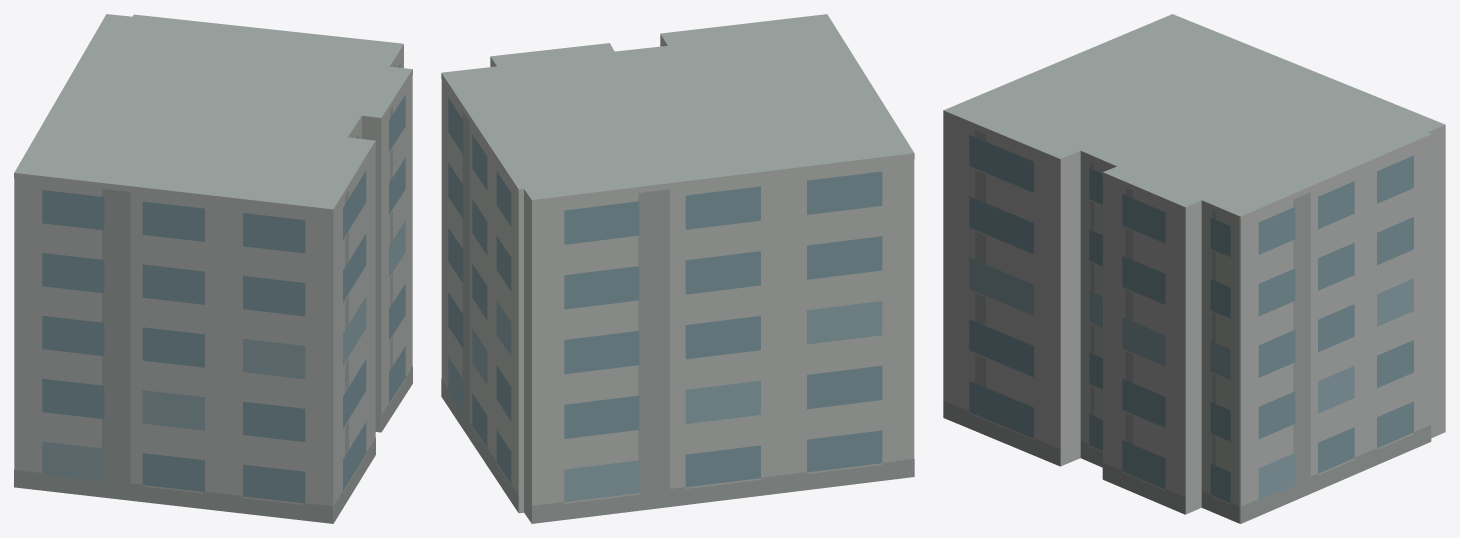
Rendered from survey-upis-32886846.glb.
3 renders of one model, left to right at view 1: azimuth 30°, elevation 25°; view 2: azimuth 150°, elevation 25°; view 3: azimuth 270°, elevation 25°, orthographic. The views are drawn at different scales.
Visible parts, largest first — view 1: survey-upis-32886846.tmp; view 2: survey-upis-32886846.tmp; view 3: survey-upis-32886846.tmp.
Boxes of the visible parts, x1=… form: survey-upis-32886846.tmp: x1=14, y1=14, x2=412, y2=523; survey-upis-32886846.tmp: x1=441, y1=14, x2=914, y2=523; survey-upis-32886846.tmp: x1=943, y1=14, x2=1445, y2=523.
Size of the model in its own units: 18.37 by 13 by 19.26.
